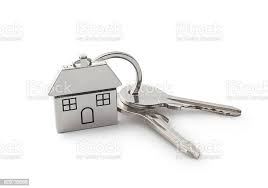key: (115, 83, 243, 160)
